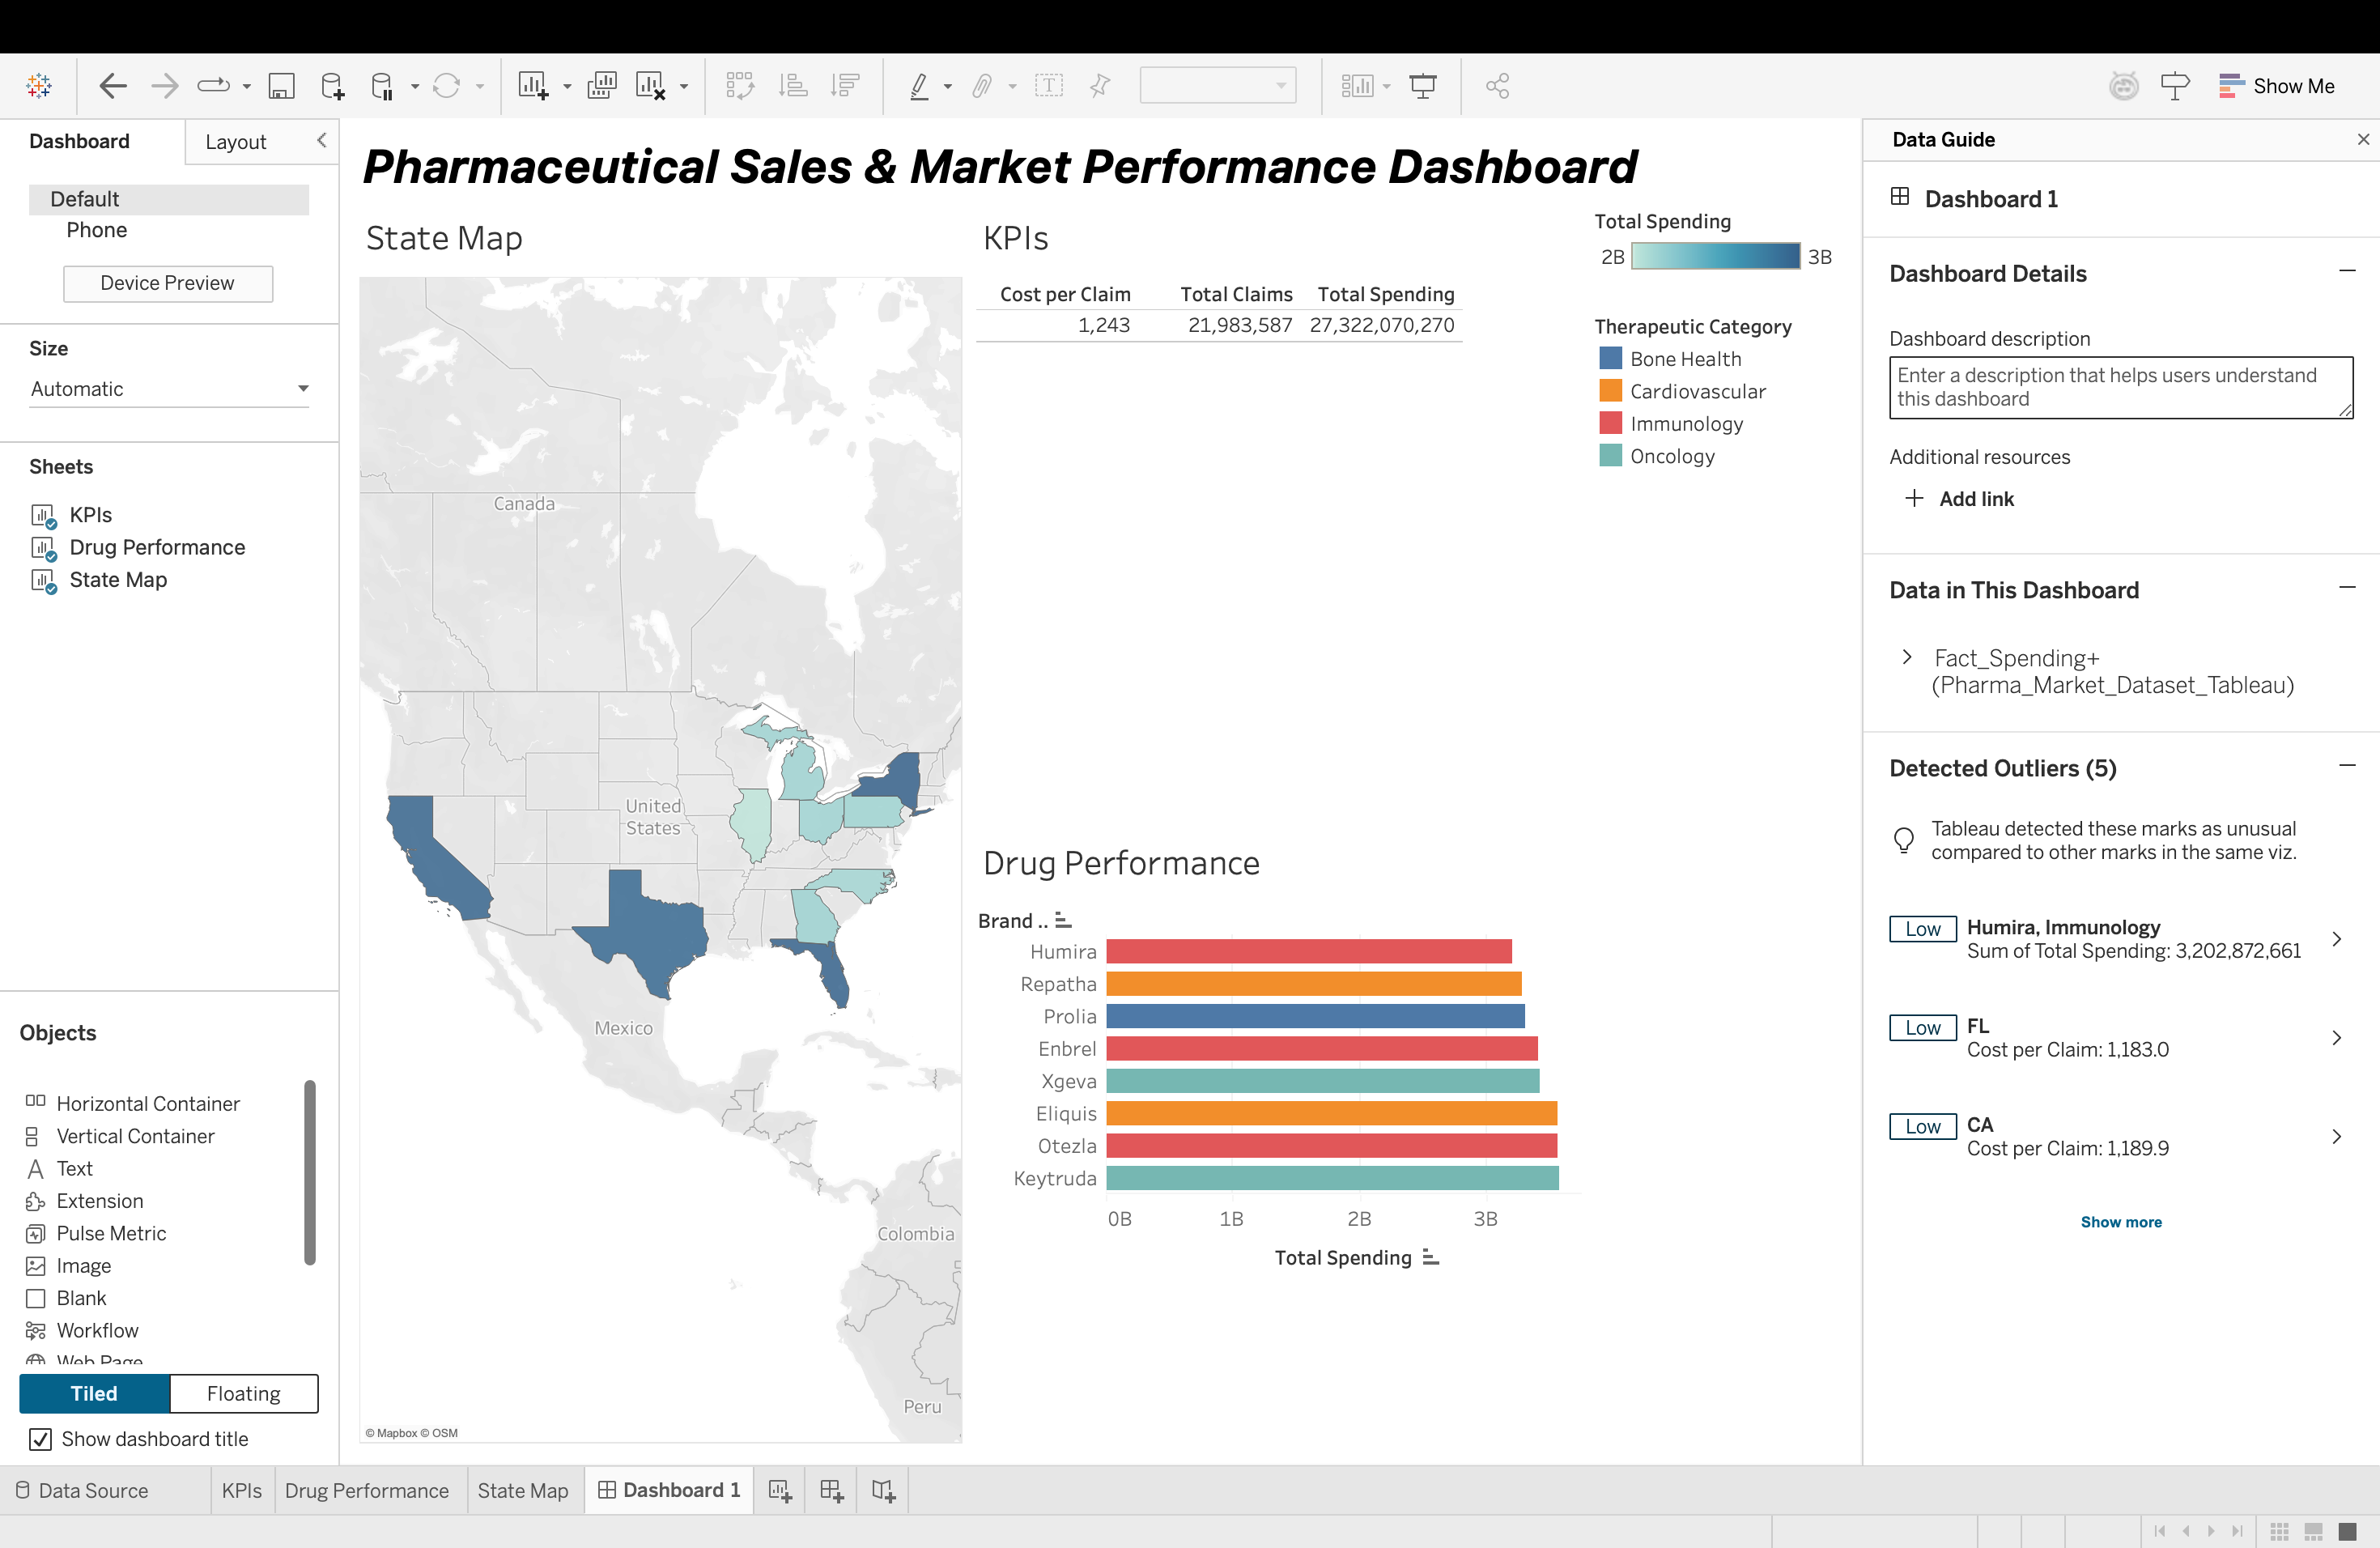

What the dashboard file says about the page in this screenshot:
{"tool":"tableau","page":{"name":"Dashboard 1","canvas":[1000,1000],"units":"permille","ordinal":0},"visuals":[{"type":"title","box":[6.4,10.7,987.3,57.6]},{"type":"worksheet","title":"State Map","mark":"Multipolygon","box":[6.4,68.3,430.1,921]},{"type":"worksheet","title":"KPIs","mark":"Automatic","box":[436.4,68.3,430.2,460.5]},{"type":"legend","title":"State Map","param":"[federated.0kisohu0of3idf10ppg2j10bi0pm].[sum:Total_Spending:qk]","box":[866.6,68.3,127.1,87]},{"type":"legend","title":"Drug Performance","param":"[federated.0kisohu0of3idf10ppg2j10bi0pm].[none:Therapeutic_Category:nk]","box":[866.6,155.3,127.1,141.9]},{"type":"worksheet","title":"Drug Performance","mark":"Automatic","rows":["Brand_Name"],"cols":["Total_Spending"],"box":[436.4,528.8,430.2,460.5]}]}

Visuals, with their boxes on the dashboard's canvas, which has no fixed pixel size, in thousandths of its width and height (x1, y1, x2, y2). These are canvas units, not pixel positions in the 2380x1548 screenshot, which may show the page scaled, cropped or inside an application window:
title: {"left": 6, "top": 11, "right": 994, "bottom": 68}
"State Map" worksheet (Multipolygon marks): {"left": 6, "top": 68, "right": 436, "bottom": 989}
"KPIs" worksheet: {"left": 436, "top": 68, "right": 867, "bottom": 529}
"State Map" legend: {"left": 867, "top": 68, "right": 994, "bottom": 155}
"Drug Performance" legend: {"left": 867, "top": 155, "right": 994, "bottom": 297}
"Drug Performance" worksheet: {"left": 436, "top": 529, "right": 867, "bottom": 989}
